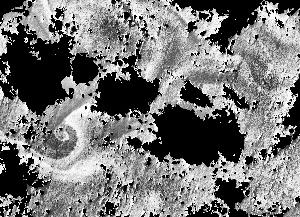CE: (32, 115, 80, 160)
